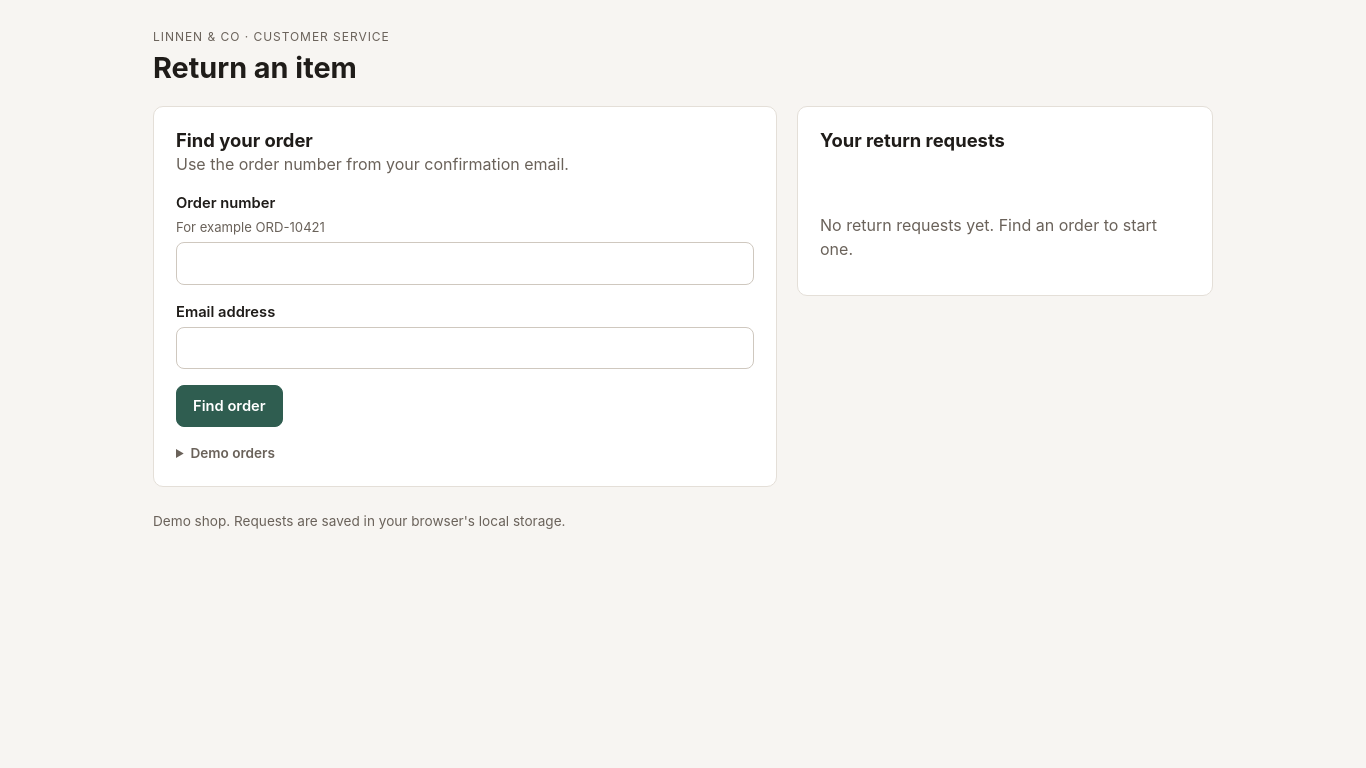
Returns app › lists every lookup error, moves focus to the summary and marks fields invalid
Click the button "Find order" at (229, 406), box [176,385,283,428]
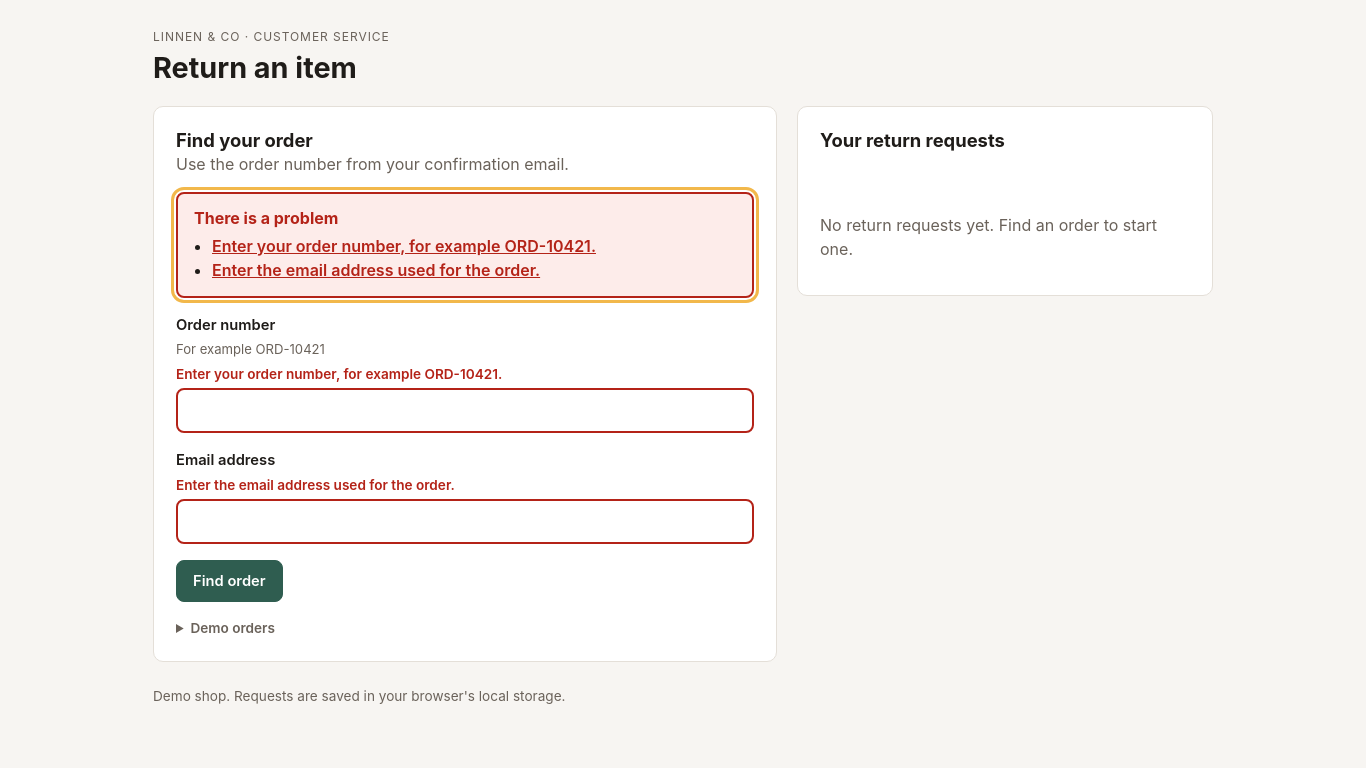
Expected: the number of links is 2, [212,236,596,256]; [212,260,540,280]
